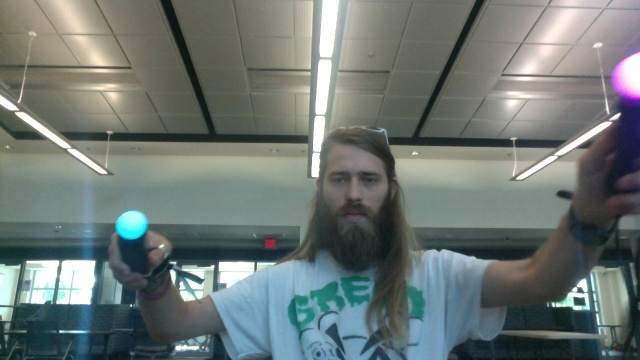wand: (612, 52, 640, 100), (117, 212, 148, 240)
